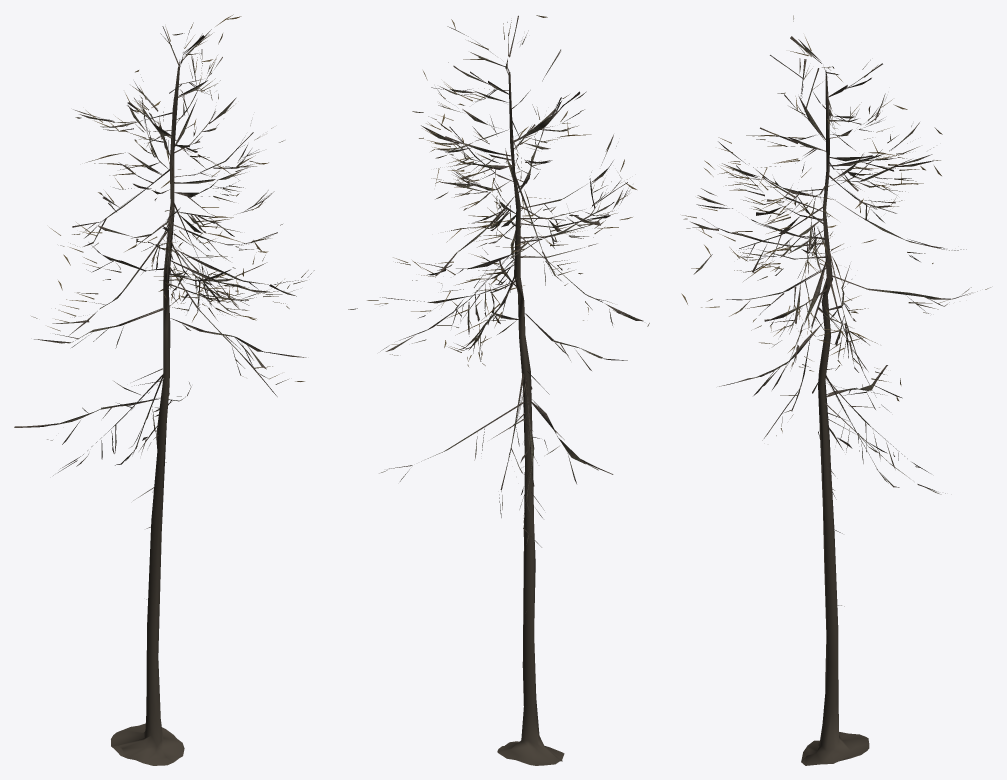
File: fir-low.glb
The picture shows the model from 3 angles, left to right: view 1: azimuth 30°, elevation 25°; view 2: azimuth 150°, elevation 25°; view 3: azimuth 270°, elevation 25°; orthographic projection. The views are drawn at different scales.
Visible parts, largest first — view 1: fir_tree_01_c_LOD0 baked; view 2: fir_tree_01_c_LOD0 baked; view 3: fir_tree_01_c_LOD0 baked.
Boxes of the visible parts, left/top/right/bottom form: fir_tree_01_c_LOD0 baked: left=14, top=14, right=314, bottom=765; fir_tree_01_c_LOD0 baked: left=348, top=15, right=649, bottom=765; fir_tree_01_c_LOD0 baked: left=681, top=15, right=990, bottom=765.
Size of the model in its own units: 5.66 by 14.52 by 5.52.
Materials: 4 (4 with a texture image).
